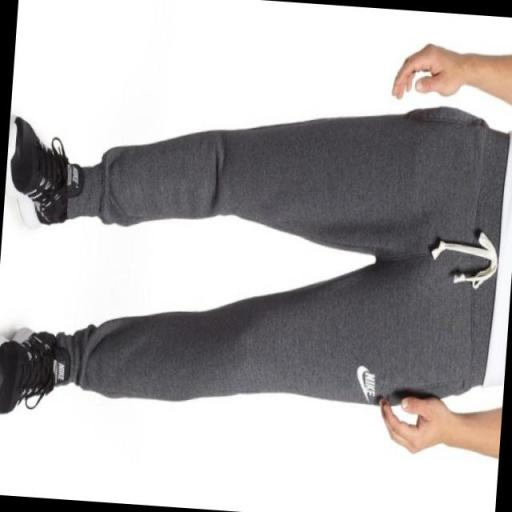Nike: (354, 364, 370, 399), (362, 370, 376, 395)
